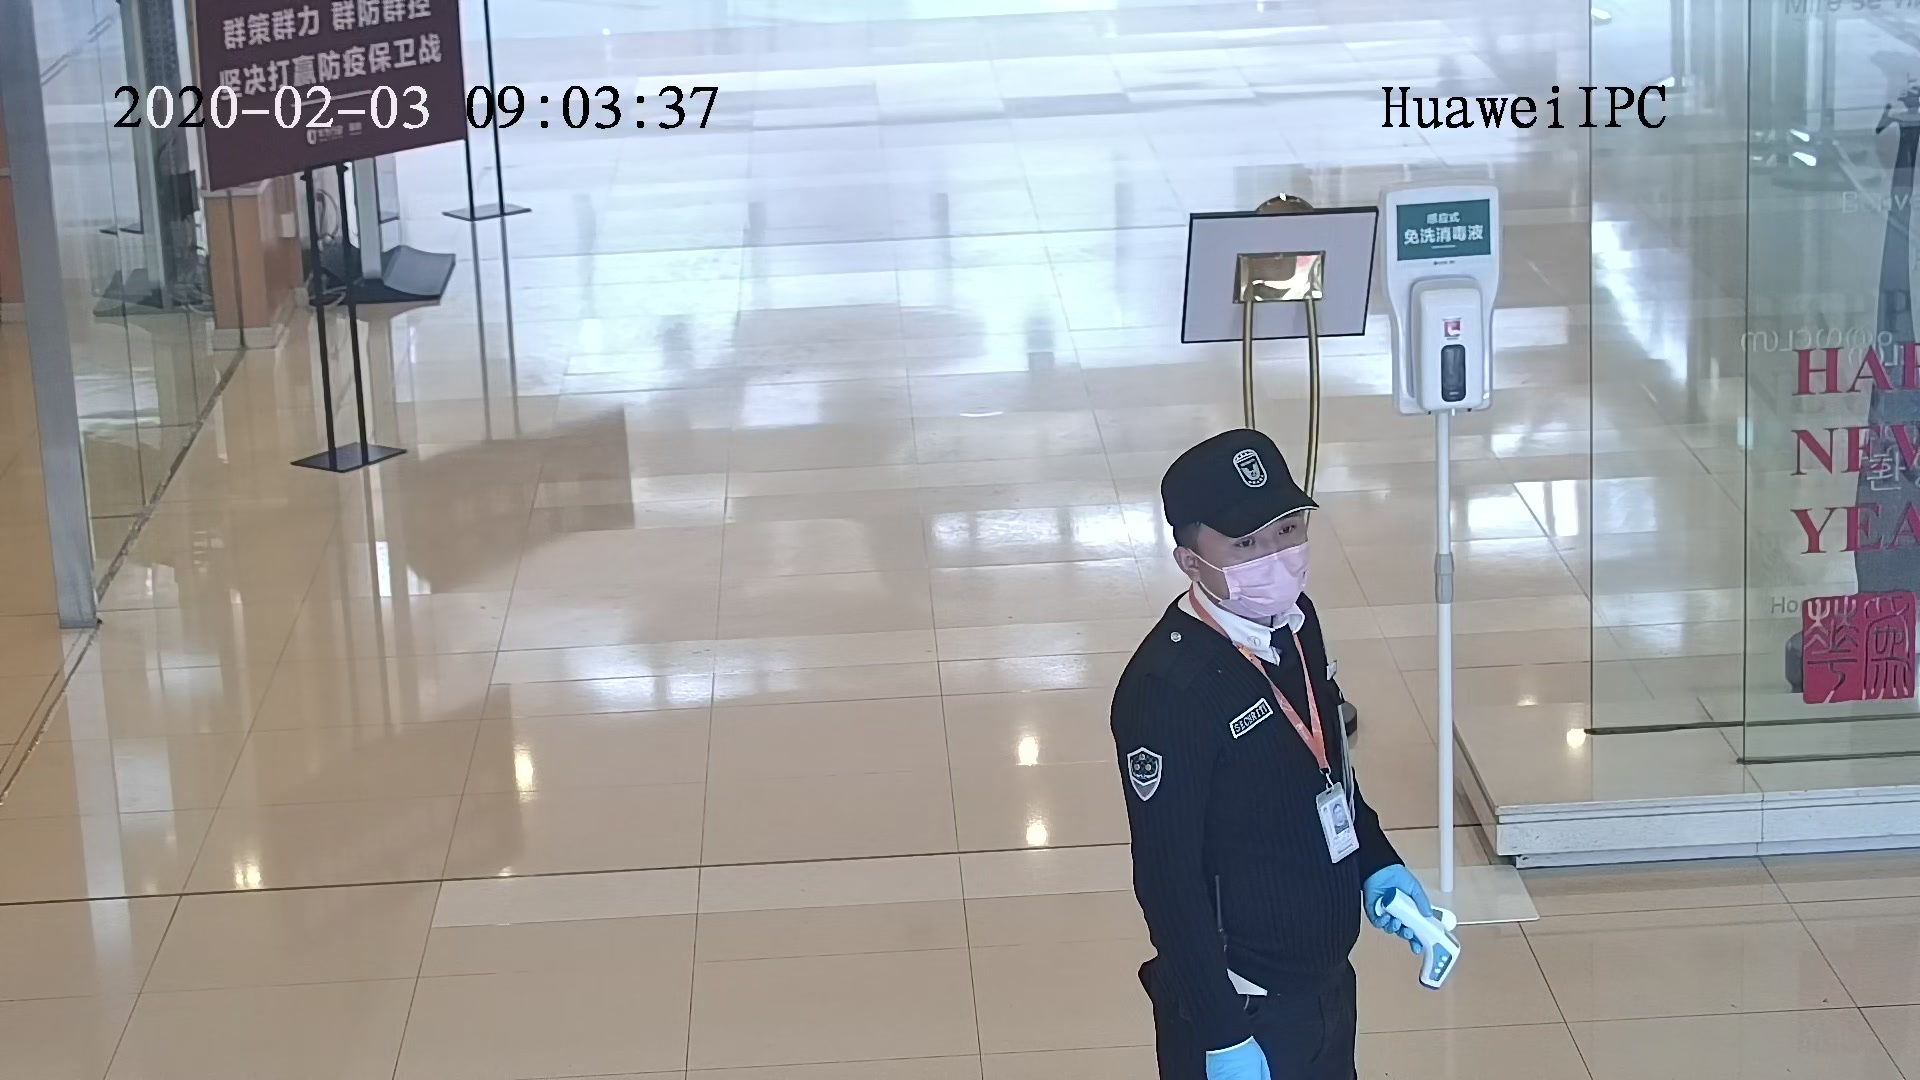face: (1193, 512, 1310, 622)
mask: (1227, 542, 1312, 622)
person: (1102, 423, 1357, 721)
